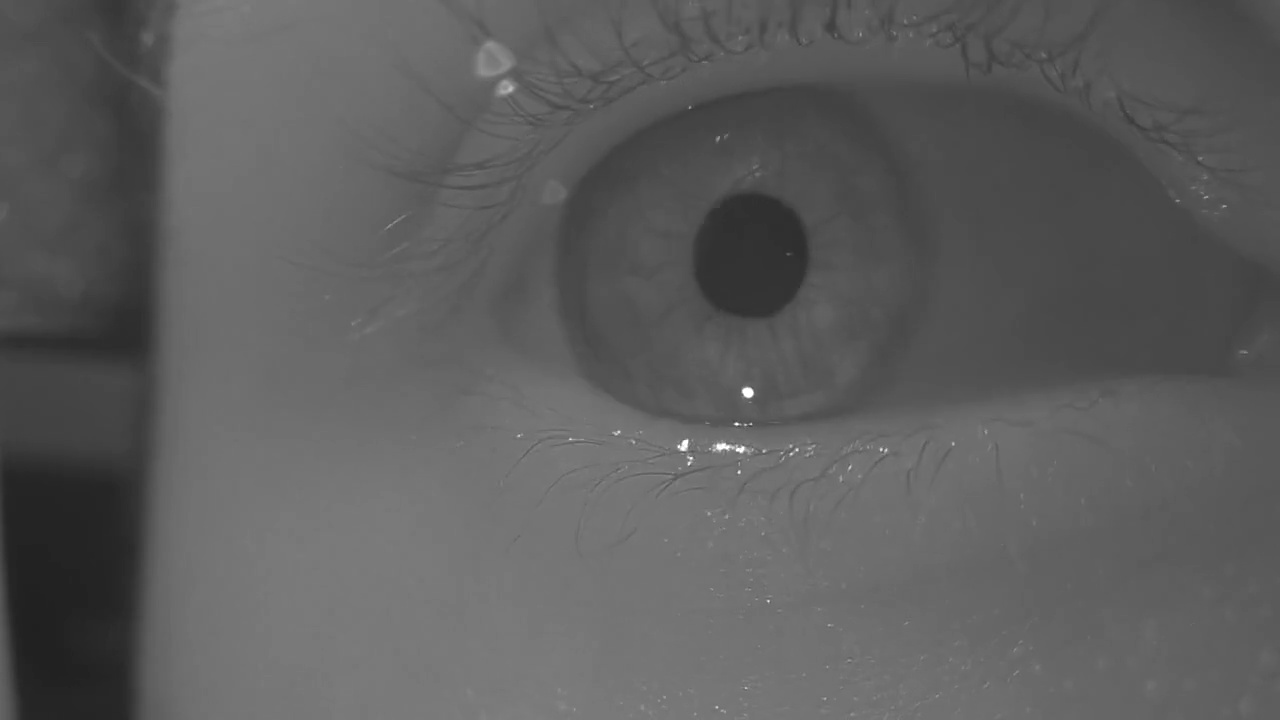pupil: (692, 194, 807, 318)
